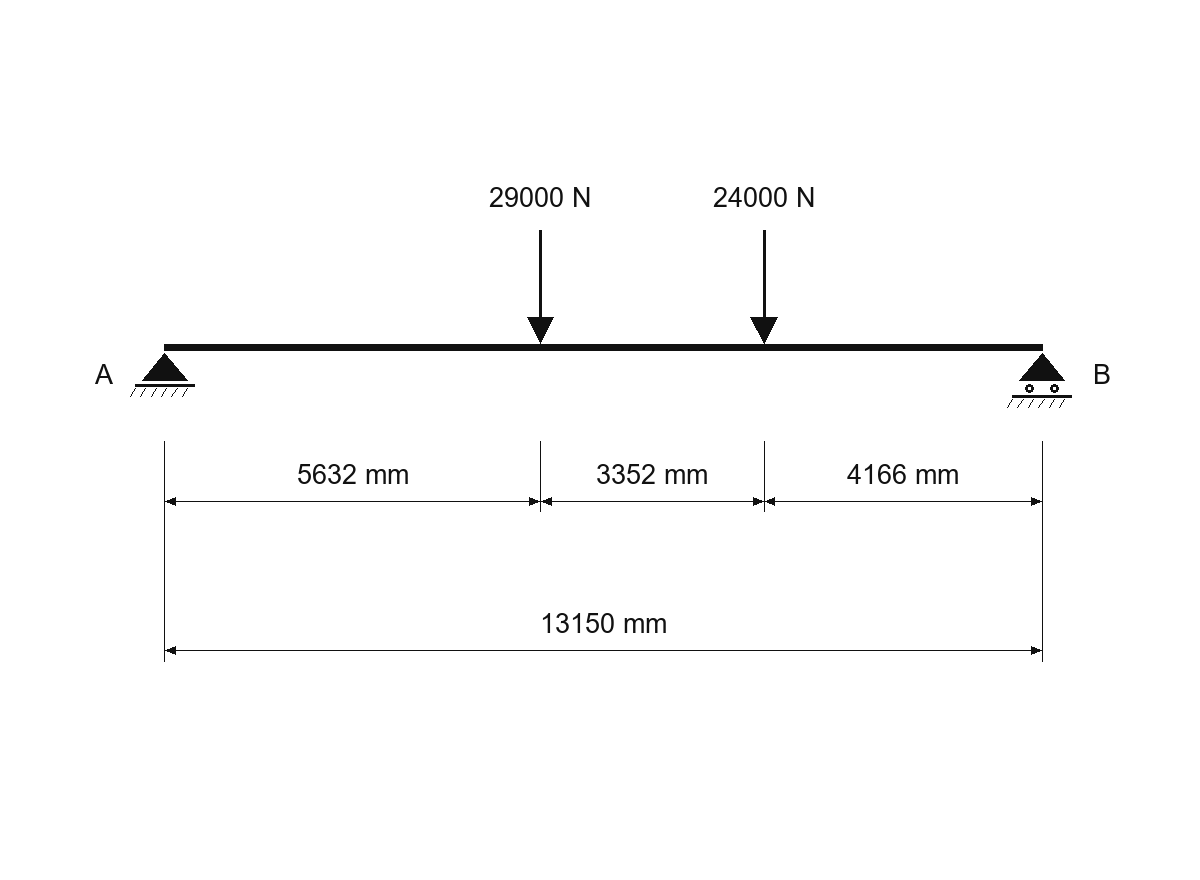pin_support: (130, 353, 195, 397)
point_load: (750, 230, 778, 344), (527, 230, 554, 344)
roller_support: (1007, 353, 1072, 408)
